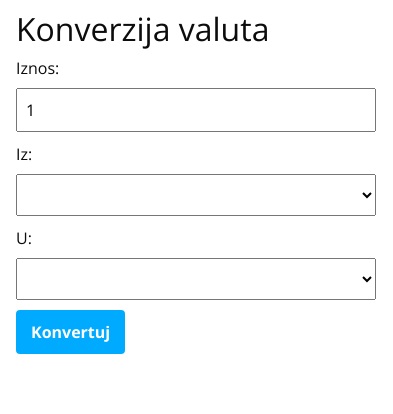
Test: CurrencyConverter Component › should render correctly and allow conversion
Expected: the dropdown labelled "Iz:" is shown, [16,174,376,216]
Expected: the dropdown labelled "U:" is shown, [16,258,376,300]
// Simuliramo unos iznosa i konverzije
Replace the text in the number field labelled "Iznos:" with "100": (196, 110) [16,88,376,132]
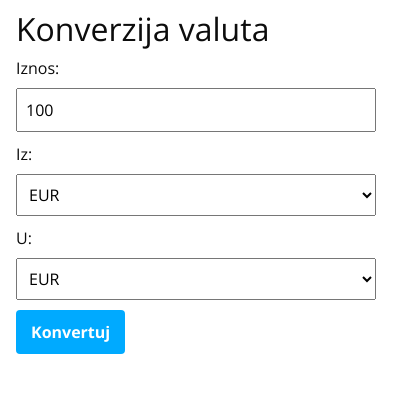
Select "USD" in the dropdown labelled "Iz:": (196, 195) [16,174,376,216]
Select "EUR" in the dropdown labelled "U:": (196, 279) [16,258,376,300]
// Simuliramo klik na dugme za konverziju
Click the button "Konvertuj": (71, 332) [16,310,125,354]
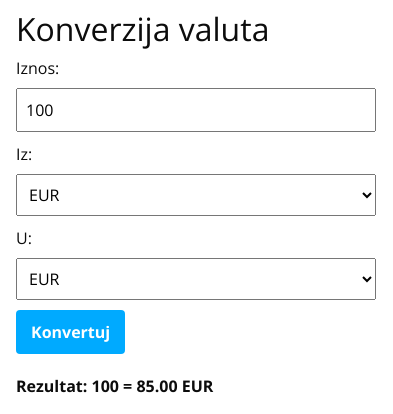
Expected: the text "Rezultat: 100 = 85.00 EUR" is shown, [16,375,213,397]
